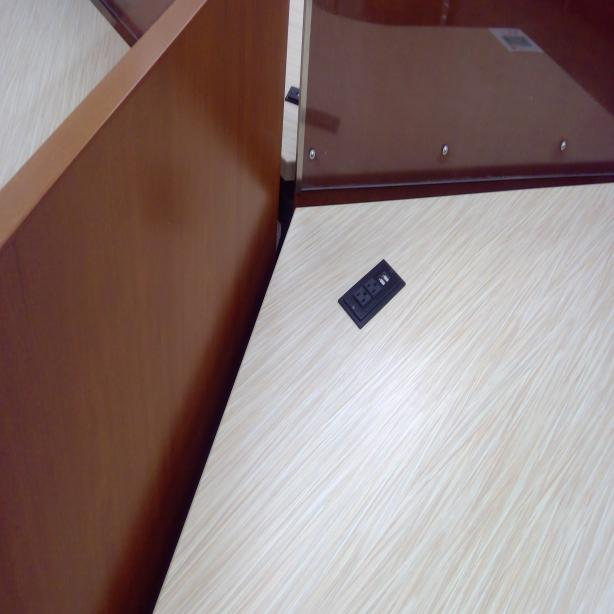typeb: (366, 276, 383, 298), (352, 288, 368, 309)
